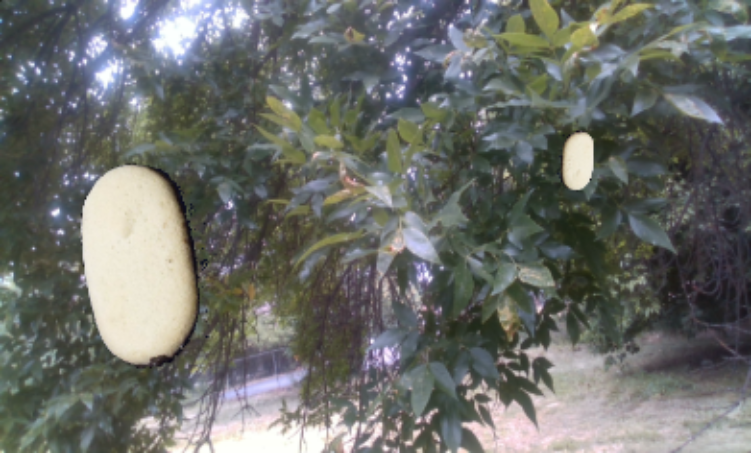test: (21, 140, 273, 394), (537, 121, 613, 197)
